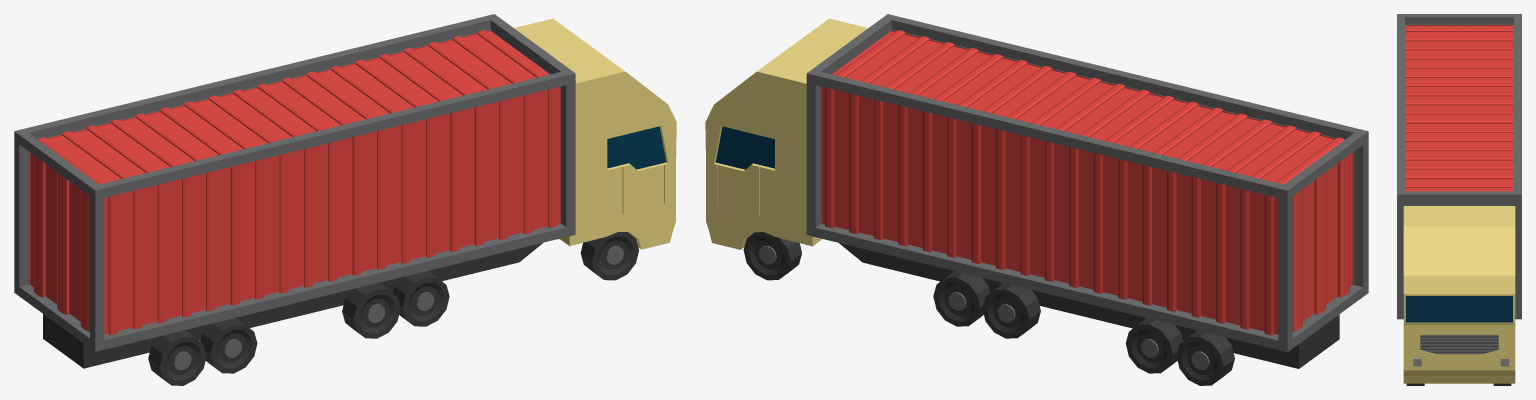
File: Truck 3.fbx
3 views of the same model, side by side, from view 1: azimuth 30°, elevation 25°; view 2: azimuth 150°, elevation 25°; view 3: azimuth 270°, elevation 25° (orthographic). The views are drawn at different scales.
Parts seen in each view (by area): view 1: Truck_3; view 2: Truck_3; view 3: Truck_3.
Part boxes in pixels (x1,y1,x2,y2): Truck_3: (14, 14, 676, 385); Truck_3: (705, 14, 1368, 385); Truck_3: (1397, 14, 1521, 385).
Size of the model in its own units: 1035 by 376 by 248.
